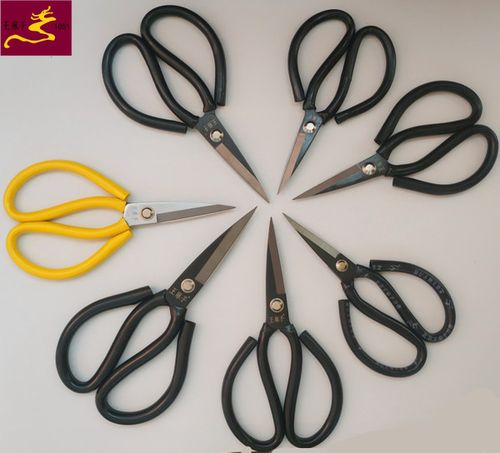scissor: (52, 207, 262, 425), (101, 5, 271, 204), (2, 159, 236, 282), (220, 218, 344, 450), (283, 214, 458, 376), (295, 82, 498, 202), (276, 7, 397, 195)
